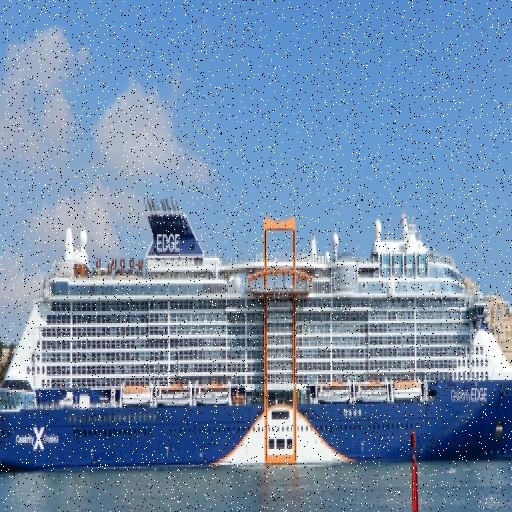cruises: (1, 181, 512, 490)
